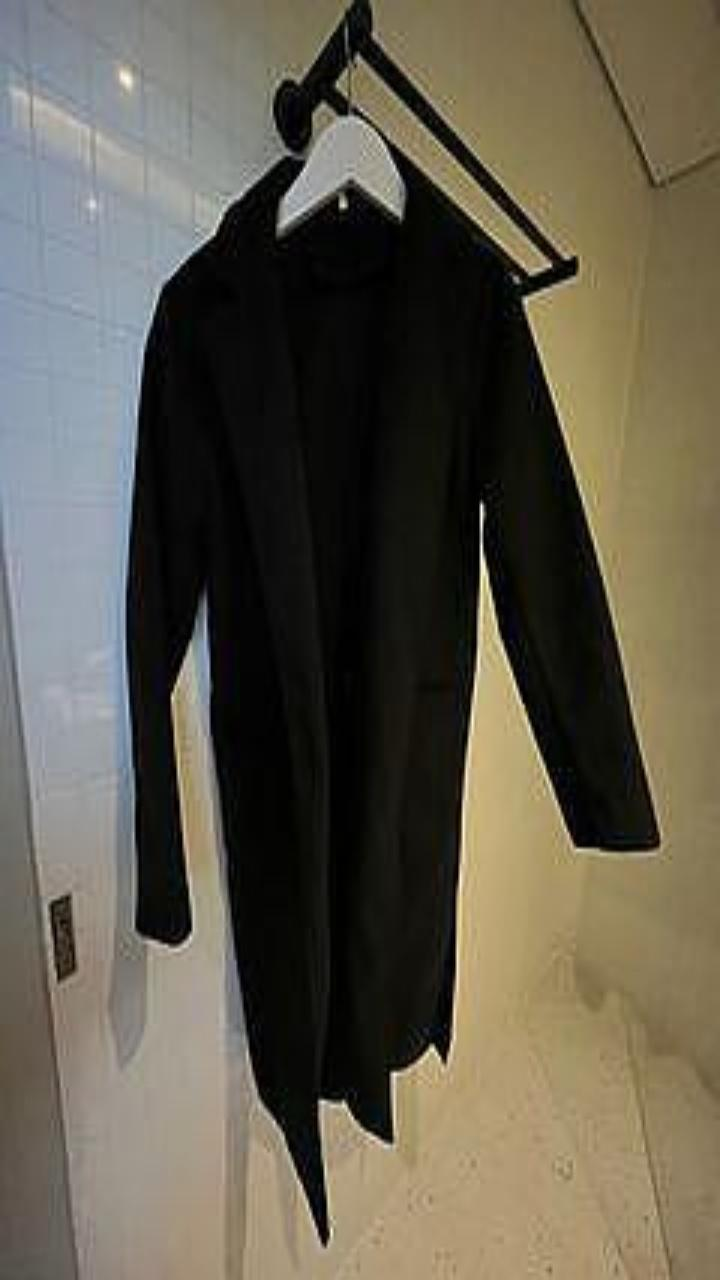Coat: (126, 155, 659, 1242)
